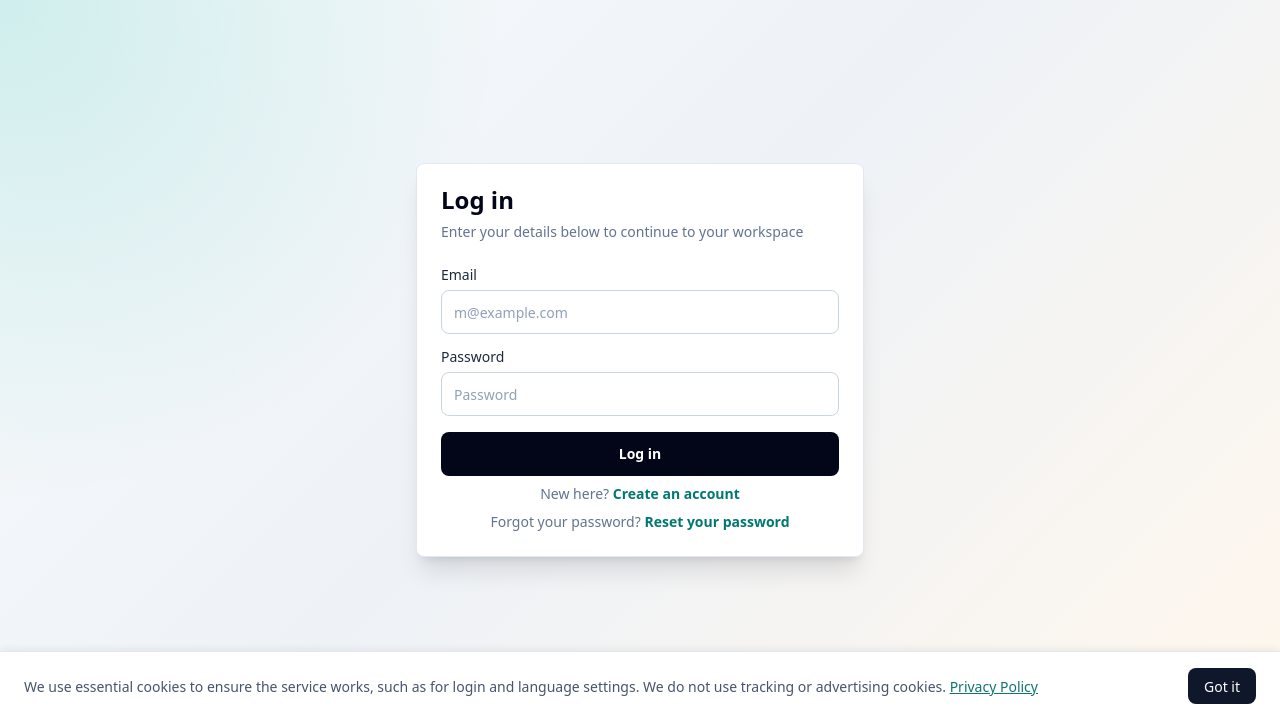
Account-lifecycle › fails to log in with invalid email format
Type "123" into the field named "email".
click(640, 312); type("123")  # box x1=441 y1=290 x2=839 y2=334
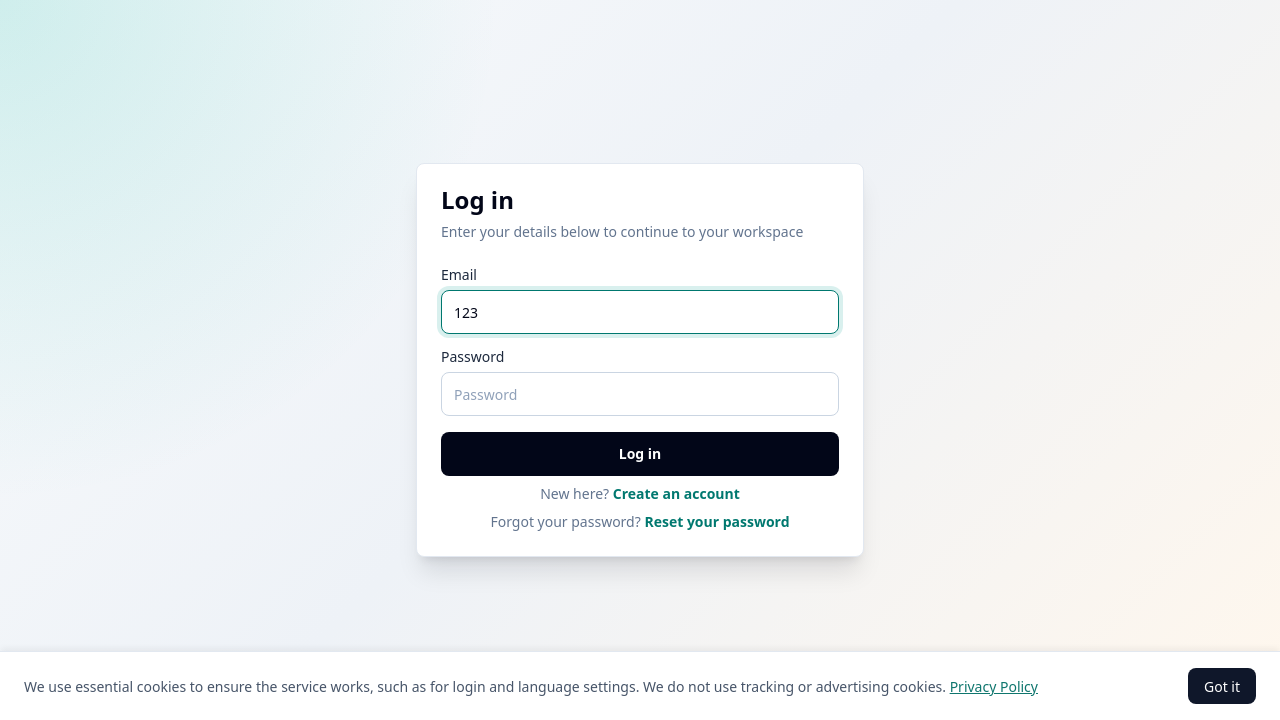
Type "password123" into the password field named "password".
click(640, 394); type("password123")  # box x1=441 y1=372 x2=839 y2=416
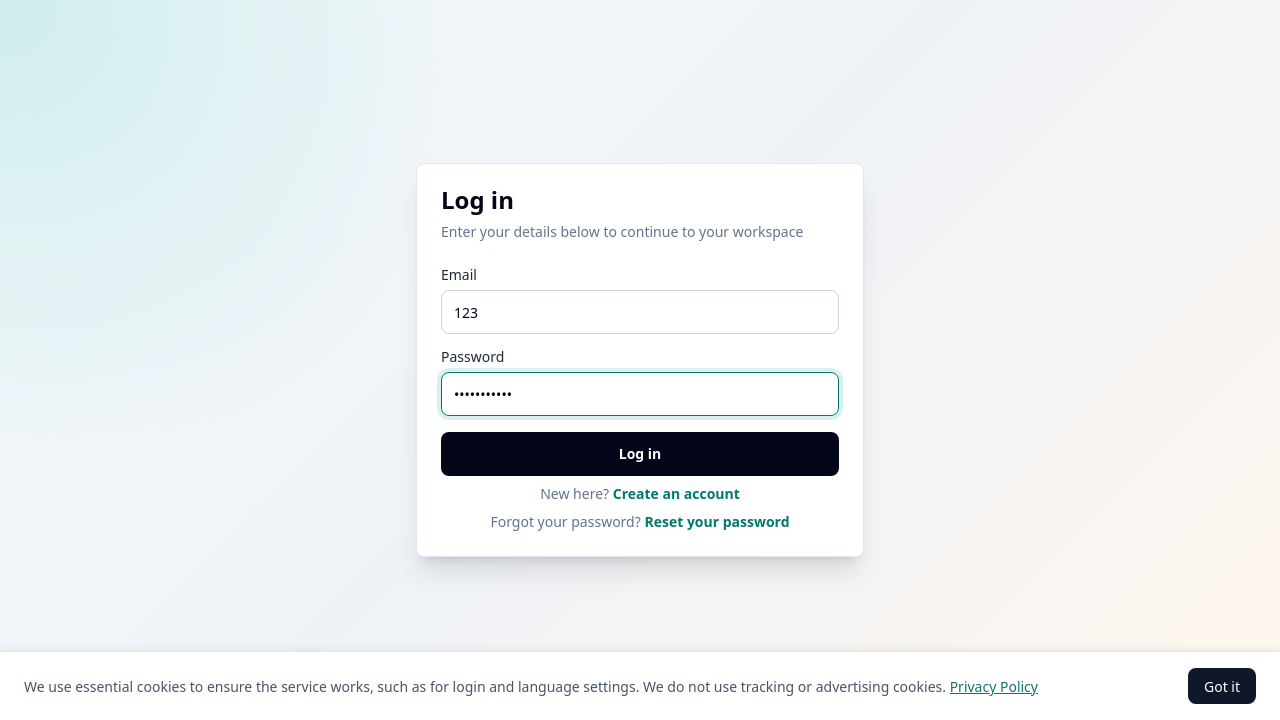
Click the submit button.
click(640, 454)  # box x1=441 y1=432 x2=839 y2=476
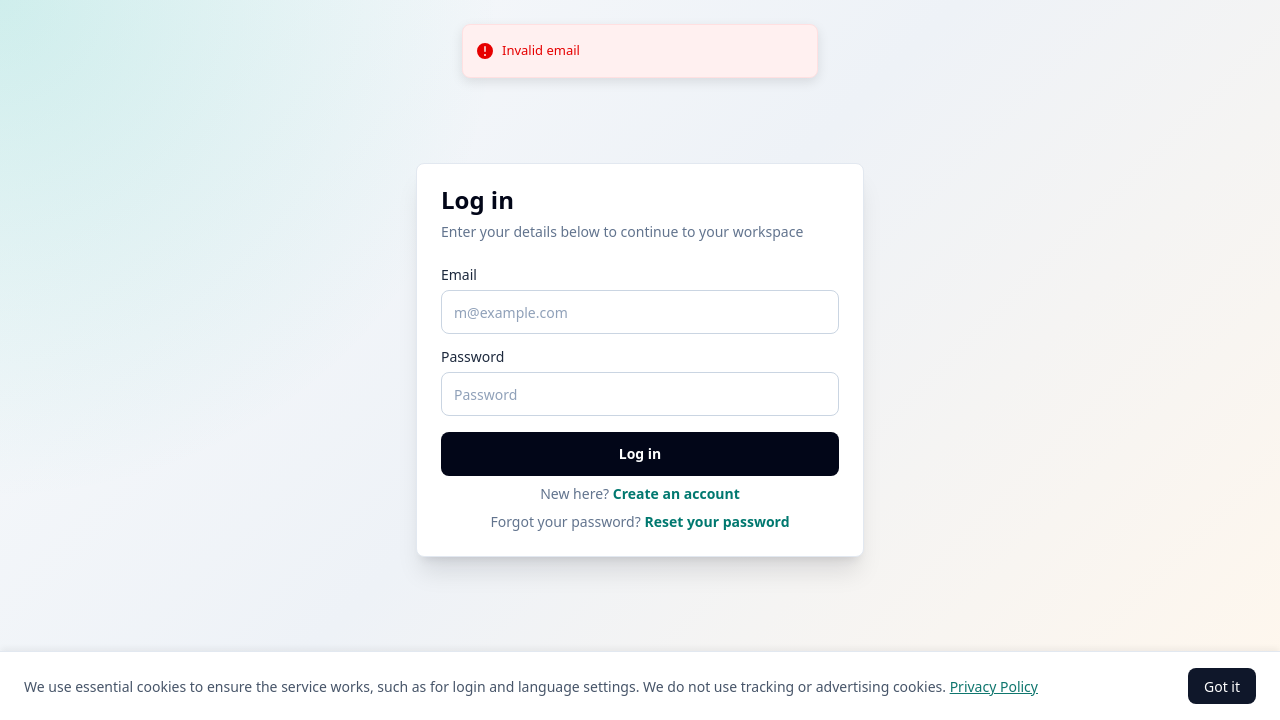
Now the text "Invalid email" is shown, box x1=502 y1=41 x2=580 y2=60
